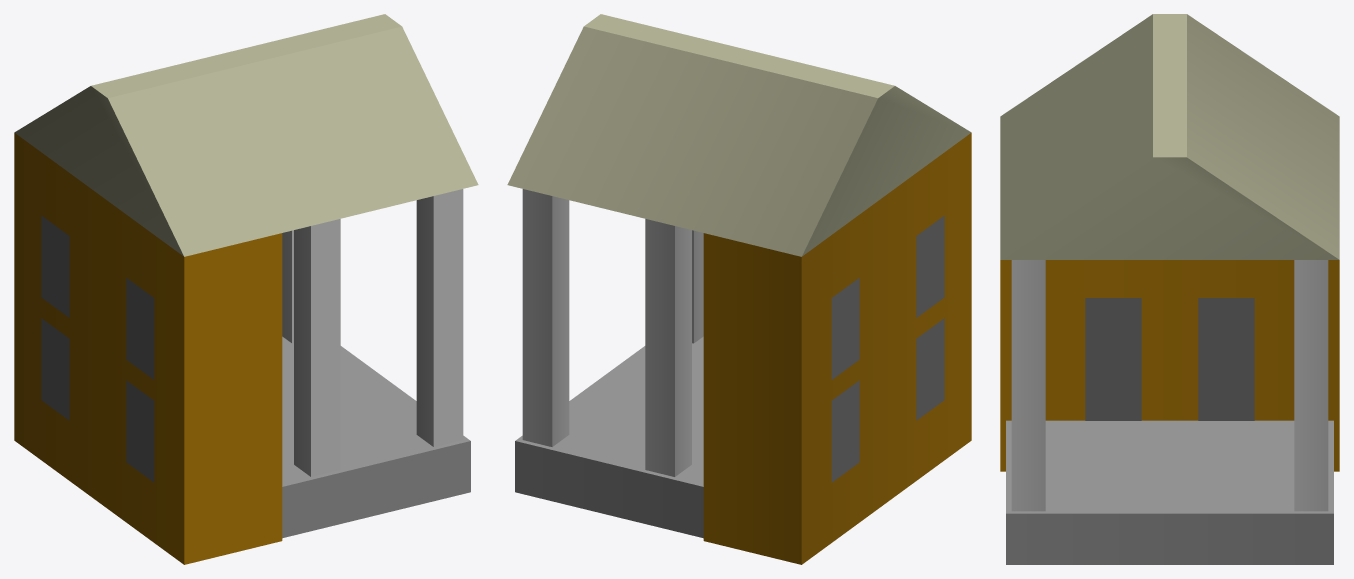
Rendered from building-21-high.glb.
3 renders of one model, left to right at view 1: azimuth 30°, elevation 25°; view 2: azimuth 150°, elevation 25°; view 3: azimuth 270°, elevation 25°, orthographic.
Parts seen in each view (by area): view 1: mesh0; view 2: mesh0; view 3: mesh0.
Part boxes in pixels (x1,y1,x2,y2): mesh0: (14, 14, 478, 564); mesh0: (507, 14, 971, 564); mesh0: (1000, 14, 1339, 564).
Bounding box in the file's own units: 0.603 × 0.8 × 0.6.
